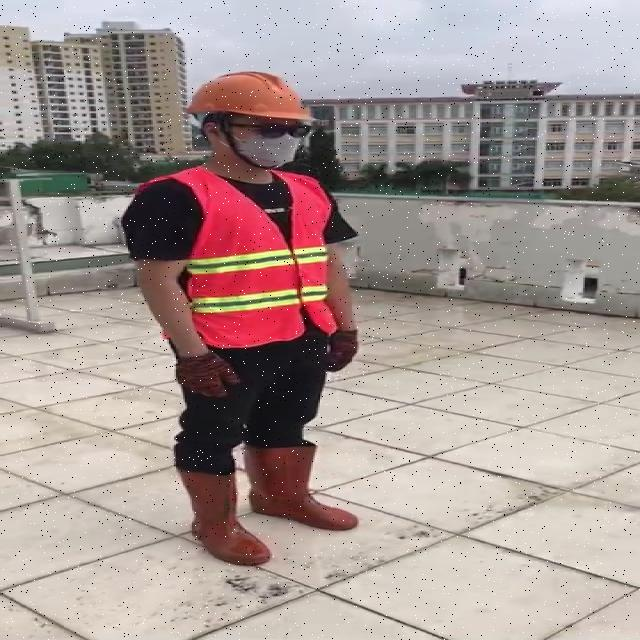Hard_hat: (181, 67, 325, 136)
Person: (120, 60, 374, 575)
Vest: (180, 167, 333, 341)
